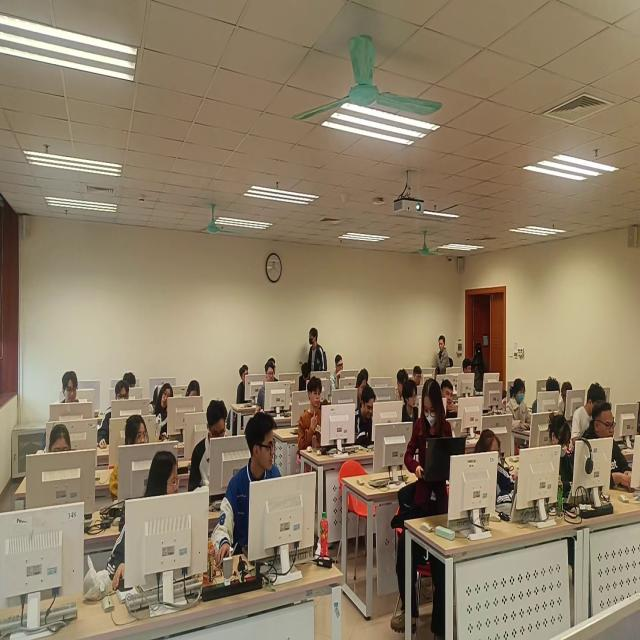raise_hand: (302, 376, 323, 455)
raise_head: (113, 416, 157, 501)
stand: (395, 382, 451, 639), (307, 328, 328, 394), (435, 333, 454, 384)
using_computer: (471, 427, 533, 525), (34, 424, 92, 520), (584, 403, 640, 502), (190, 405, 239, 500), (541, 420, 588, 508), (299, 381, 338, 466), (100, 381, 137, 453), (51, 369, 93, 429), (508, 376, 545, 434), (439, 373, 473, 435), (353, 386, 384, 453), (254, 364, 289, 422), (399, 381, 426, 432), (235, 365, 264, 409), (182, 373, 204, 427), (459, 361, 487, 402), (334, 352, 356, 387)
